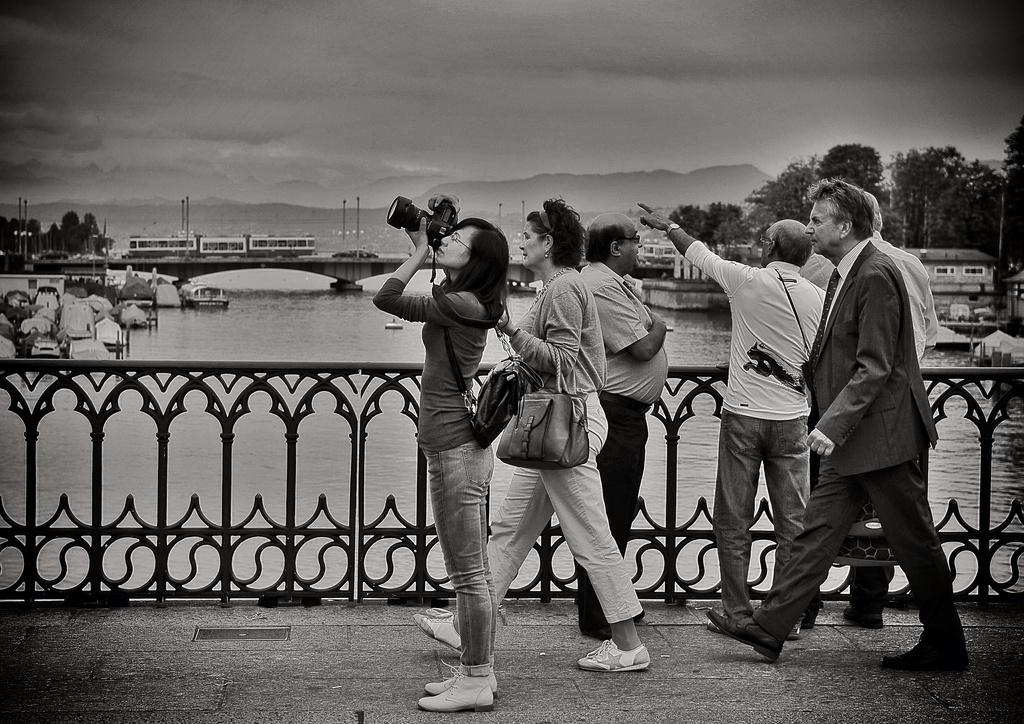Luggage-and-bags: (493, 346, 591, 467), (465, 346, 543, 437)
